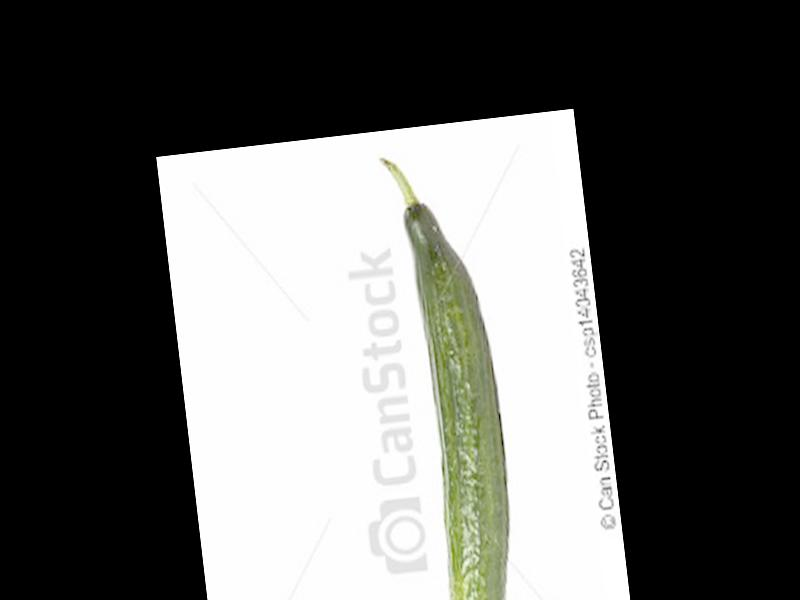Cucumber: (381, 145, 527, 600)
